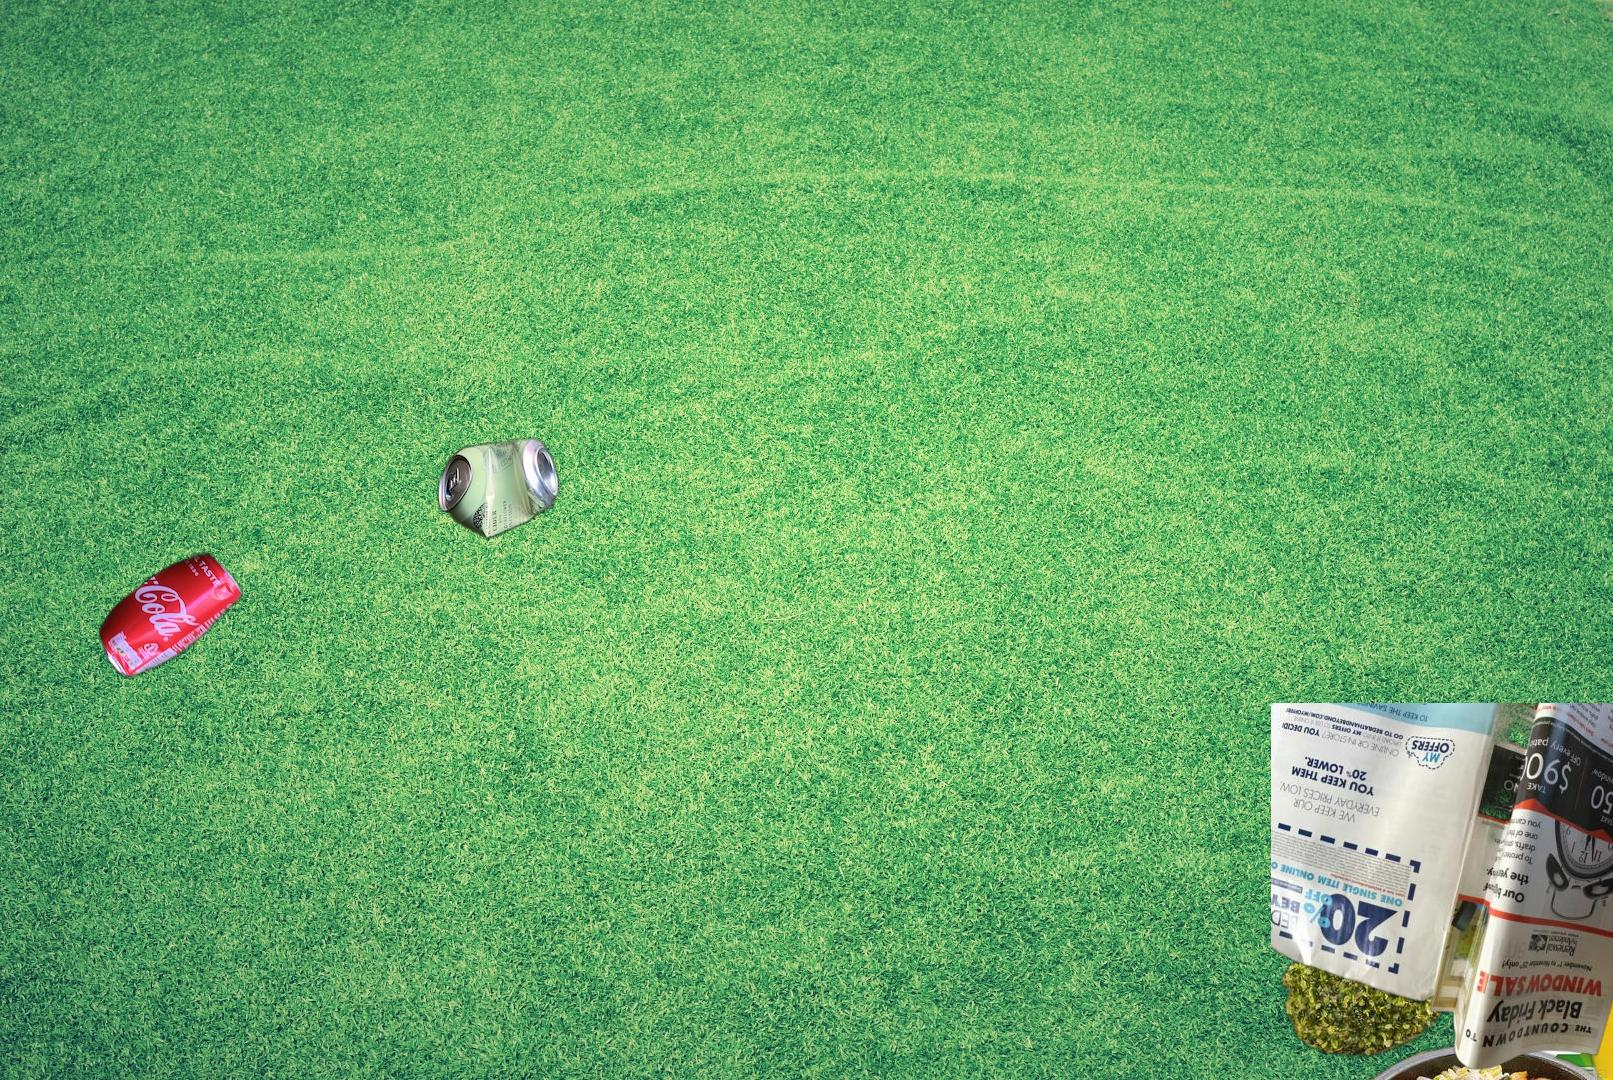battery: (1453, 1023, 1613, 1080)
biological: (1275, 902, 1613, 1080)
metal-cans: (420, 432, 611, 844), (94, 547, 247, 683)
paper: (1271, 703, 1613, 1073)
